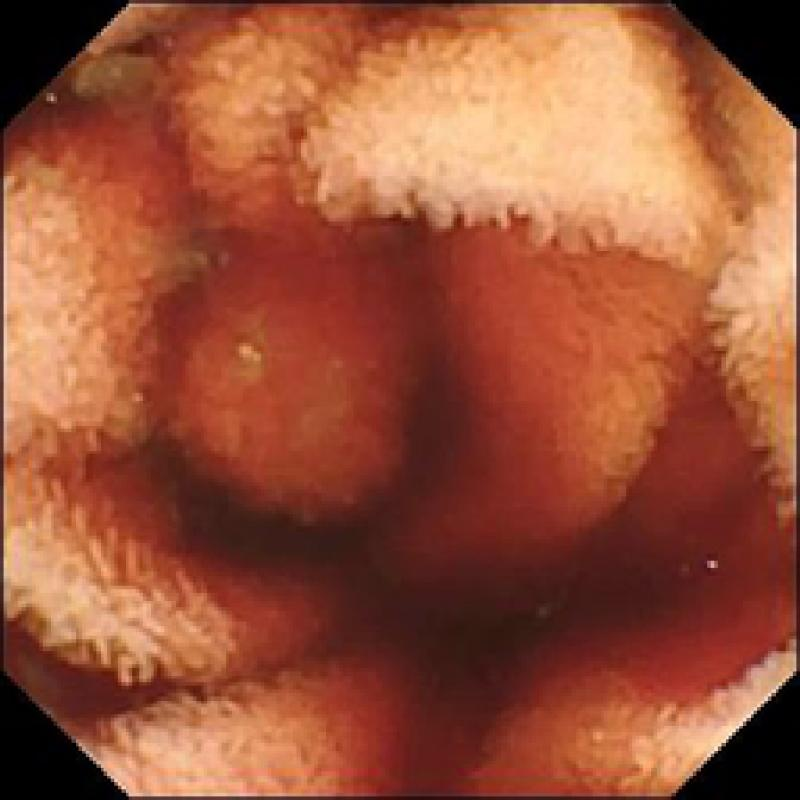bleeding: (0, 85, 789, 782)
